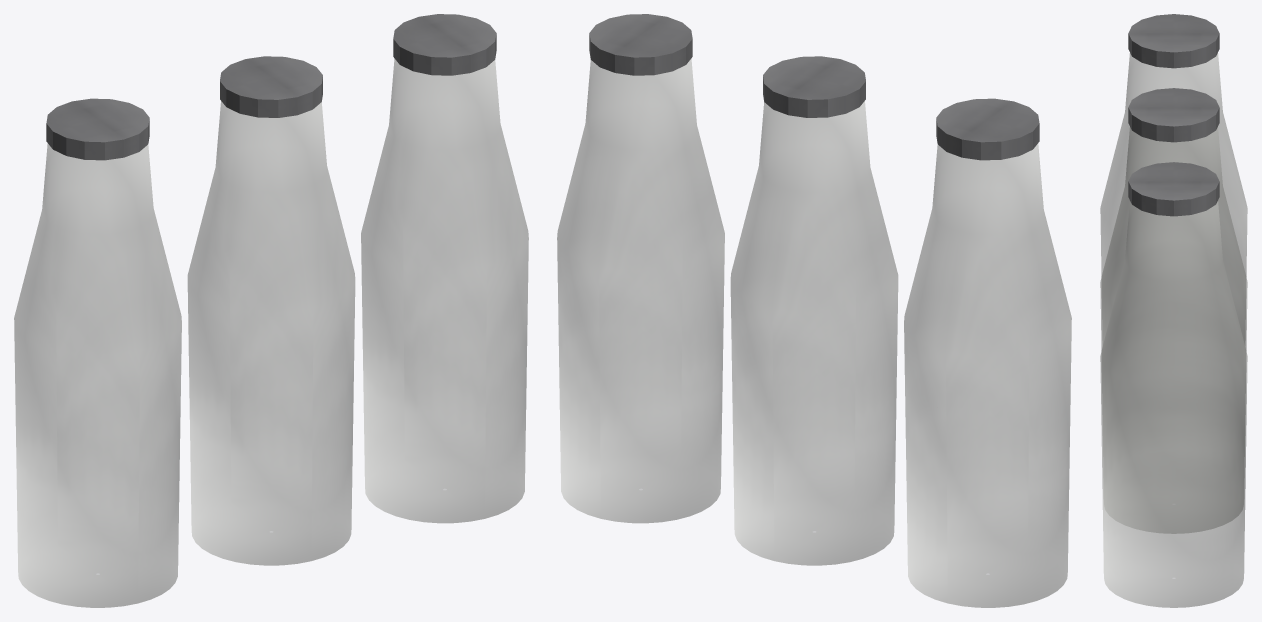
File: FD17_MilkBottles.glb
3 views of the same model, side by side, from view 1: azimuth 30°, elevation 25°; view 2: azimuth 150°, elevation 25°; view 3: azimuth 270°, elevation 25° (orthographic). The views are drawn at different scales.
Parts seen in each view (by area): view 1: FD17_MilkBottles; view 2: FD17_MilkBottles; view 3: FD17_MilkBottles.
Part boxes in pixels (<box>): FD17_MilkBottles: <box>14,14,528,607</box>; FD17_MilkBottles: <box>557,14,1071,607</box>; FD17_MilkBottles: <box>1100,14,1247,607</box>.
Bounding box in the file's own units: 0.25 × 0.2201 × 0.0739.
2 materials, 2 textured.
